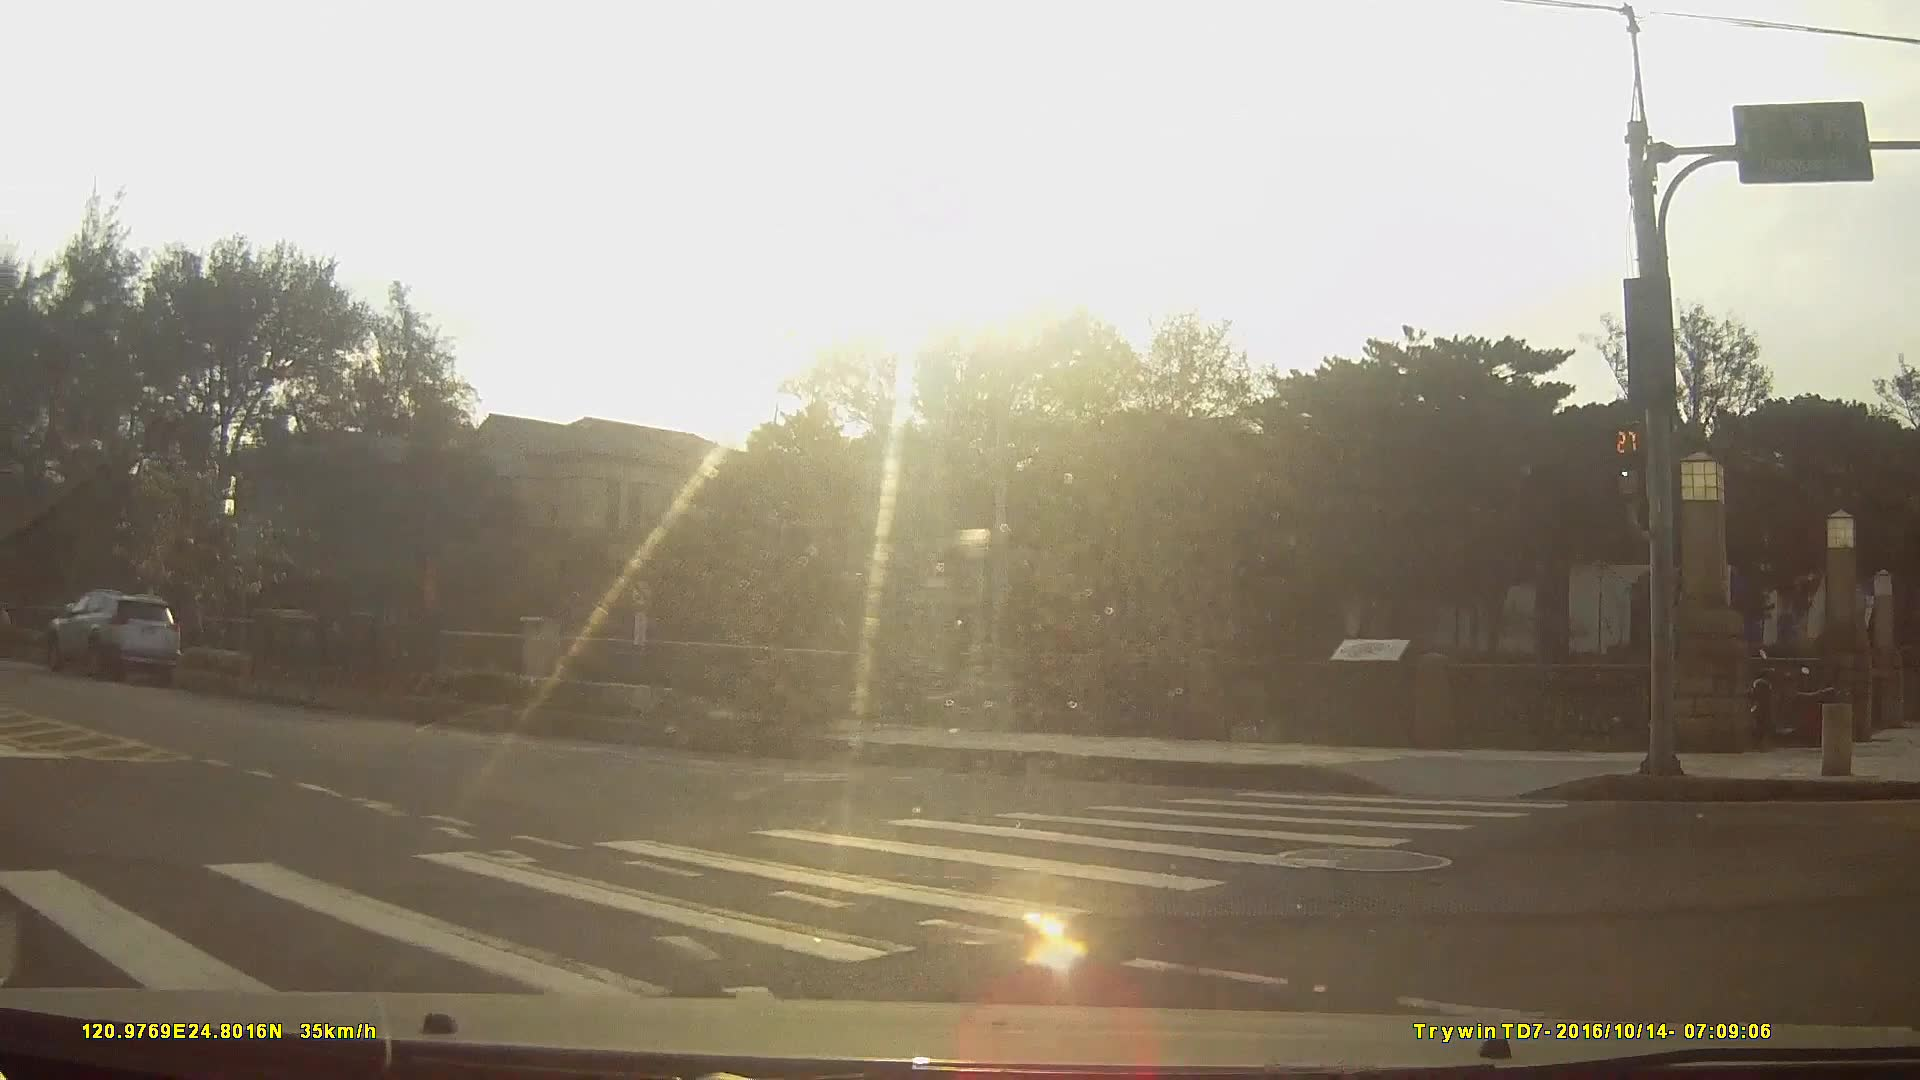vehicle: (46, 587, 179, 682)
